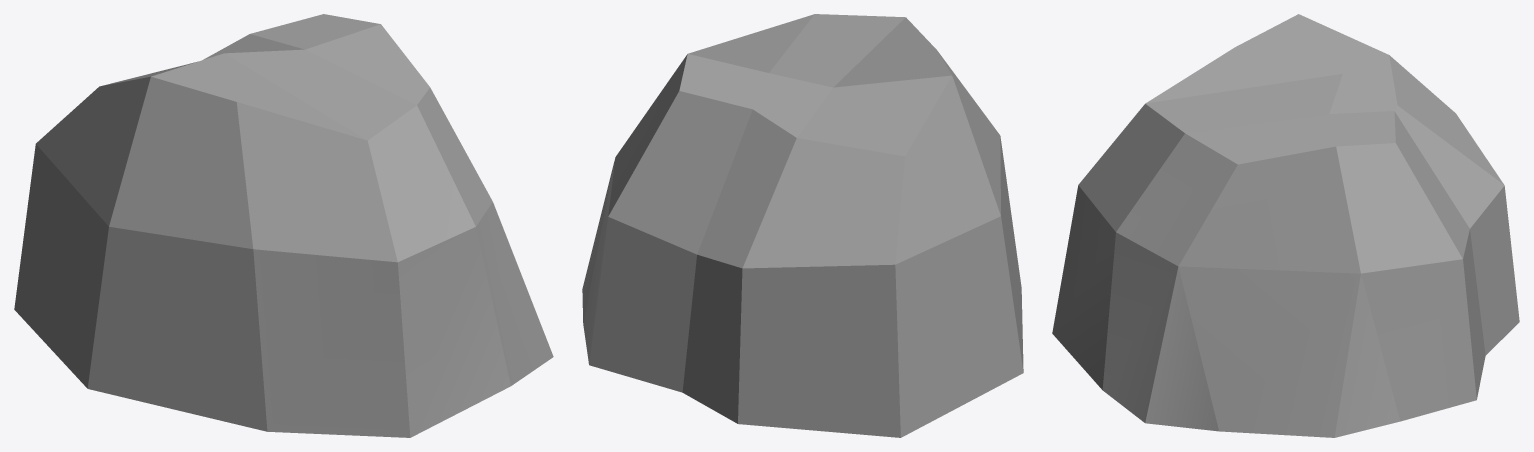
The model's file is HardRock_11.fbx.
3 views of the same model, side by side, from view 1: azimuth 30°, elevation 25°; view 2: azimuth 150°, elevation 25°; view 3: azimuth 270°, elevation 25° (orthographic). The views are drawn at different scales.
Parts seen in each view (by area): view 1: HardRock_11; view 2: HardRock_11; view 3: HardRock_11.
Part boxes in pixels (x1,y1,x2,y2): HardRock_11: (14,14,553,437); HardRock_11: (582,14,1023,437); HardRock_11: (1052,14,1519,437).
Size of the model in its own units: 141 by 93.48 by 148.
